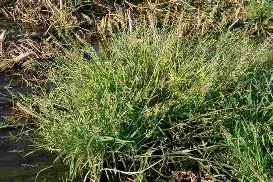weed: (23, 24, 272, 180), (0, 0, 272, 69), (1, 0, 271, 37)
